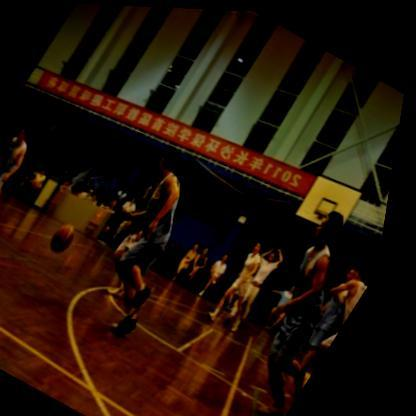basketball: (52, 220, 87, 255)
